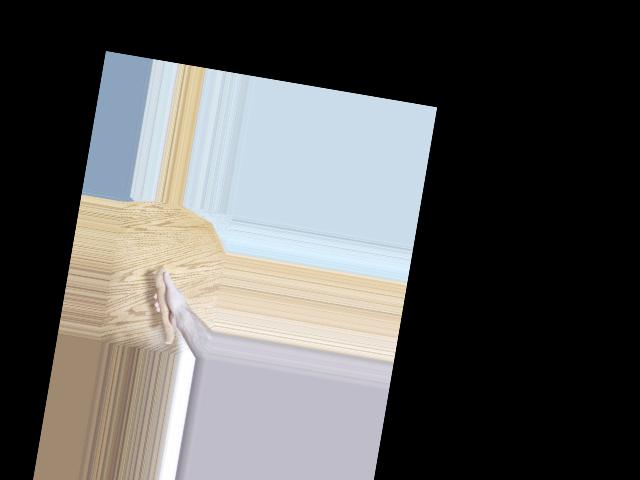sweet_potato: (141, 266, 188, 346)
